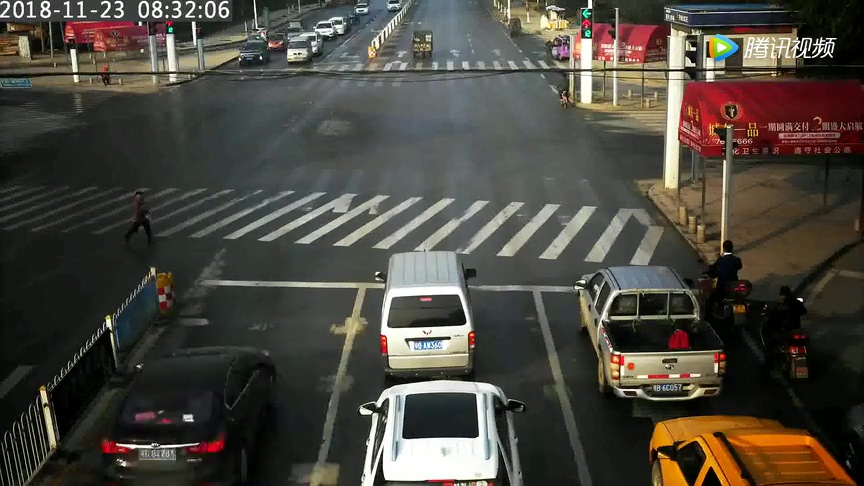car: (95, 333, 290, 486), (566, 257, 740, 407), (347, 377, 530, 486), (366, 239, 497, 379), (283, 34, 320, 78), (230, 38, 279, 71), (410, 25, 439, 76), (320, 10, 352, 40), (500, 11, 527, 46), (311, 19, 340, 44)
person: (694, 239, 757, 320), (114, 184, 160, 253), (550, 61, 580, 111), (89, 58, 116, 85), (538, 33, 560, 64)
